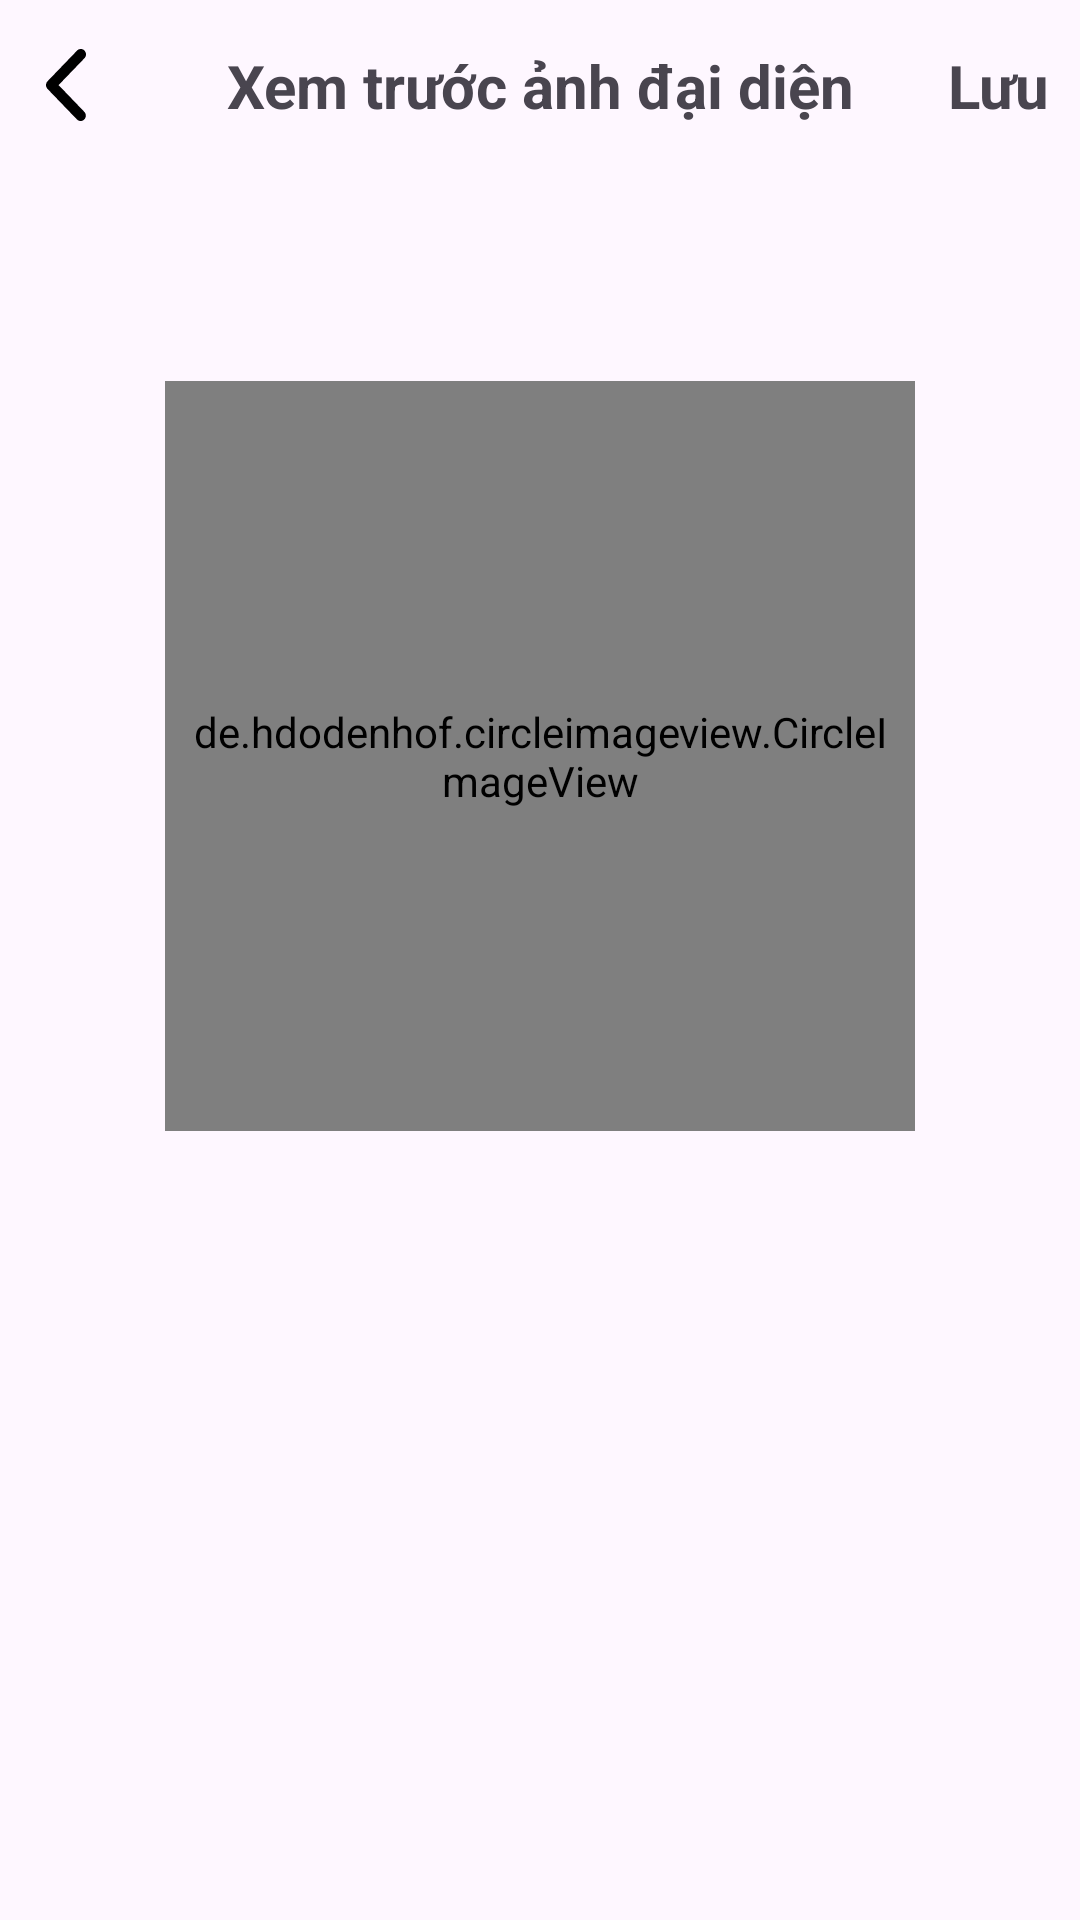

Named icons in this screenshot (1080 × 1920) and their bounding boxes, (x1, y1, x2, y2):
back: (46, 49, 86, 121)
